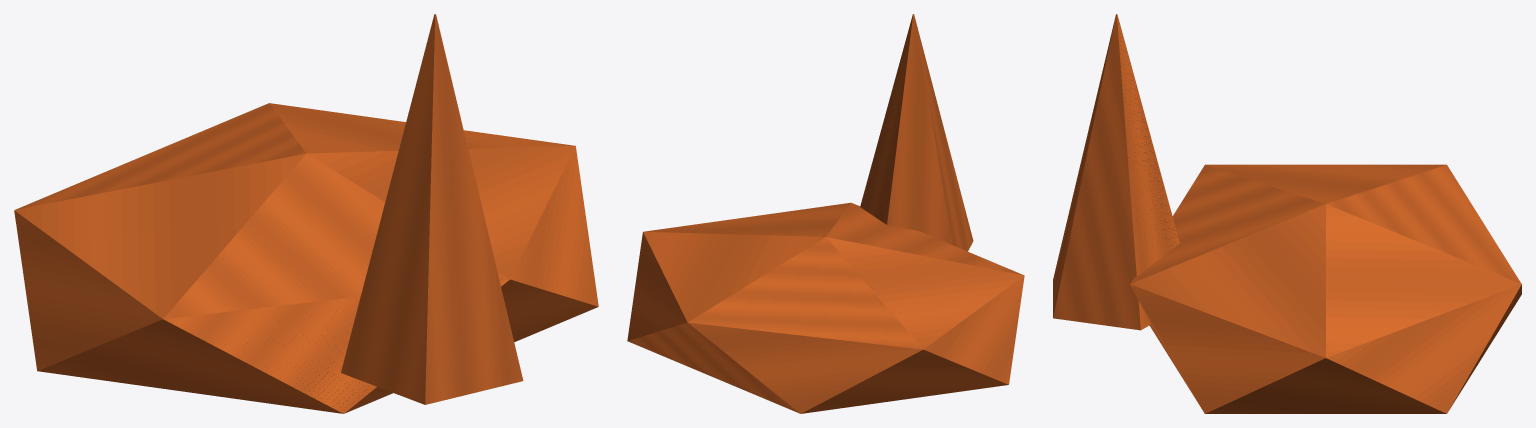
The model's file is delayed_bloom.glb.
3 views of the same model, side by side, from view 1: azimuth 30°, elevation 25°; view 2: azimuth 150°, elevation 25°; view 3: azimuth 270°, elevation 25° (orthographic). The views are drawn at different scales.
Parts seen in each view (by area): view 1: gear_delayed_bloom; view 2: gear_delayed_bloom; view 3: gear_delayed_bloom.
Boxes of the visible parts, box(x1,y1,x2,y2) form: gear_delayed_bloom: box(14, 14, 598, 413); gear_delayed_bloom: box(627, 14, 1024, 413); gear_delayed_bloom: box(1053, 14, 1521, 413).
Bounding box in the file's own units: 0.483 × 0.38 × 0.4478.
Materials: 1 (1 with a texture image).
